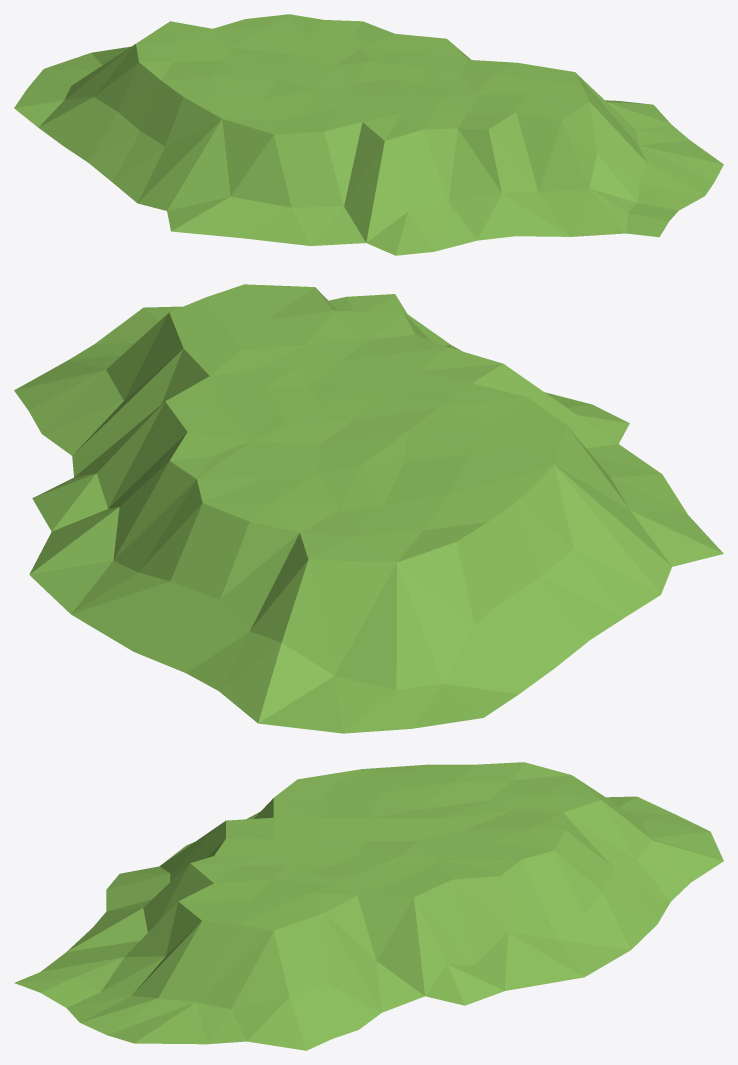
File: MT_Mountain_L_b_14.fbx
3 views of the same model, one above another, from view 1: azimuth 30°, elevation 25°; view 2: azimuth 150°, elevation 25°; view 3: azimuth 270°, elevation 25° (orthographic). The views are drawn at different scales.
Parts seen in each view (by area): view 1: MT_Mountain_L_b_14; view 2: MT_Mountain_L_b_14; view 3: MT_Mountain_L_b_14.
Boxes of the visible parts, x1,y1,x2,y2 form: MT_Mountain_L_b_14: (14, 14, 723, 255); MT_Mountain_L_b_14: (14, 284, 723, 733); MT_Mountain_L_b_14: (14, 762, 723, 1050).
Bounding box in the file's own units: 3966 × 553 × 4651.
